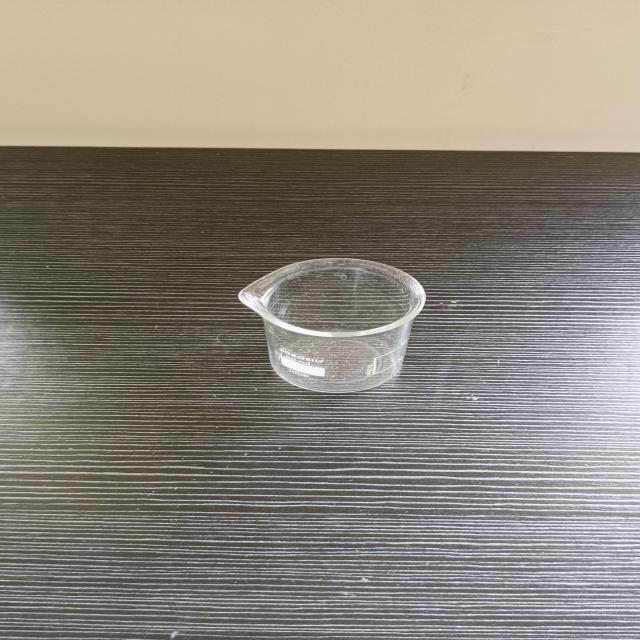beaker: (228, 254, 436, 398)
